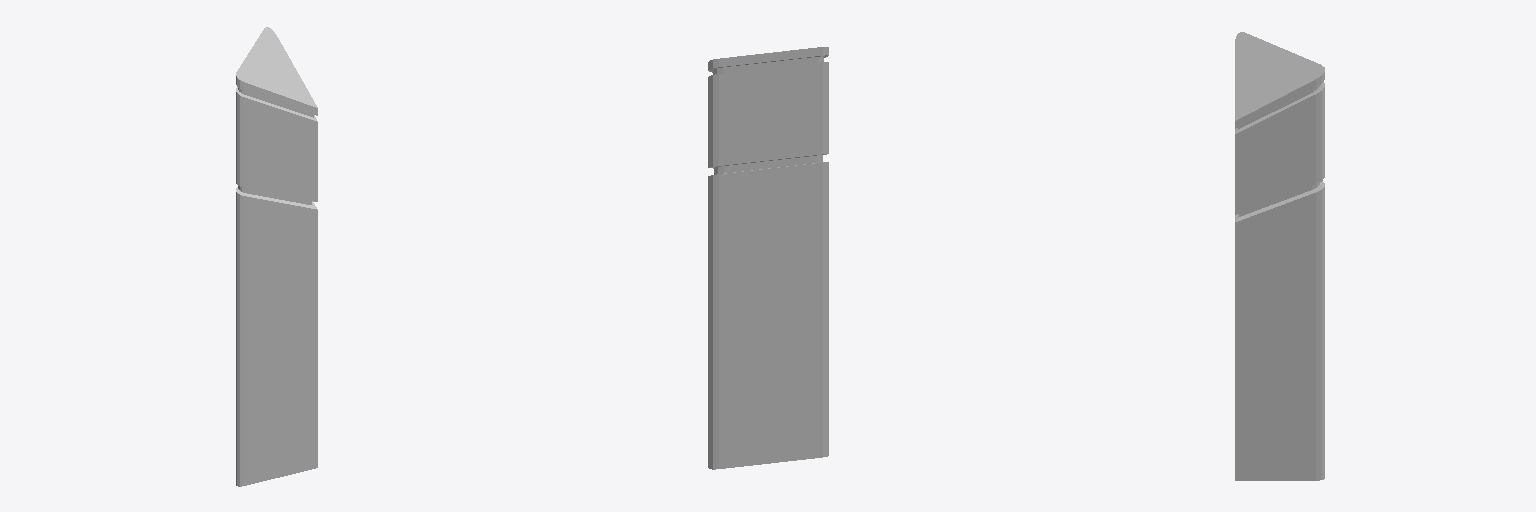
The model's file is tower_01.obj.
The picture shows the model from 3 angles: view 1: azimuth 30°, elevation 25°; view 2: azimuth 150°, elevation 25°; view 3: azimuth 270°, elevation 25°; orthographic projection.
Parts seen in each view (by area): view 1: Cube_Cube; view 2: Cube_Cube; view 3: Cube_Cube.
Part boxes in pixels (x1,y1,x2,y2): Cube_Cube: (236, 27, 317, 486); Cube_Cube: (708, 47, 828, 469); Cube_Cube: (1235, 32, 1324, 480).
Size of the model in its own units: 633 by 3123 by 618.